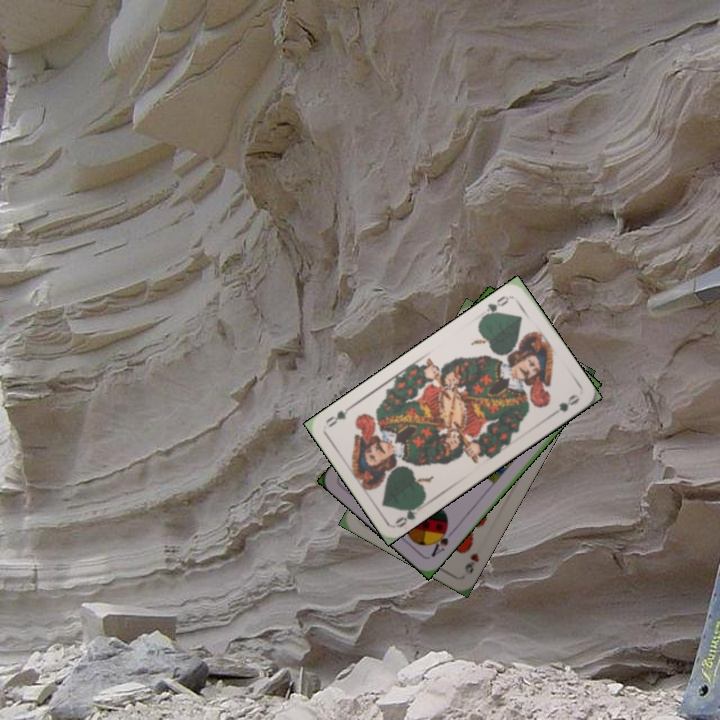GO: (391, 499, 426, 531), (478, 291, 513, 320)
H9: (460, 548, 482, 576)
SA: (427, 523, 457, 560)
